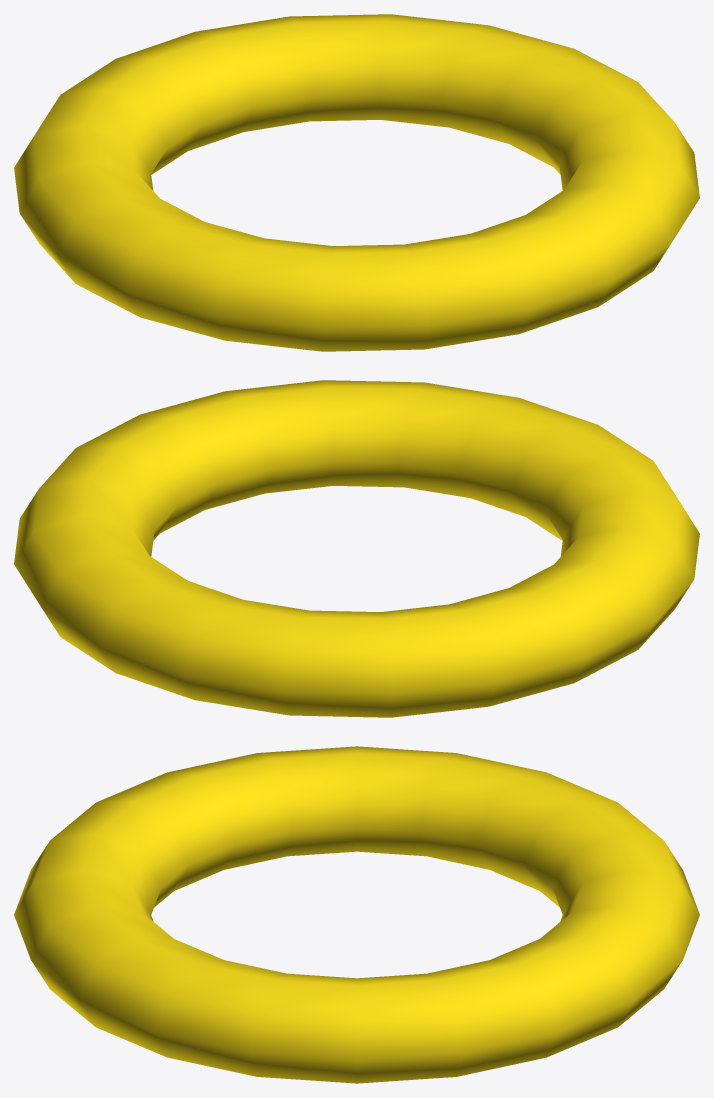
The model's file is Aureola.fbx.
3 renders of one model, top to bottom at view 1: azimuth 30°, elevation 25°; view 2: azimuth 150°, elevation 25°; view 3: azimuth 270°, elevation 25°, orthographic.
Parts seen in each view (by area): view 1: Aureola; view 2: Aureola; view 3: Aureola.
Boxes of the visible parts, left/top/right/bottom form: Aureola: left=14, top=14, right=699, bottom=351; Aureola: left=14, top=380, right=699, bottom=717; Aureola: left=14, top=746, right=699, bottom=1083.
Size of the model in its own units: 250 by 36.56 by 250.
